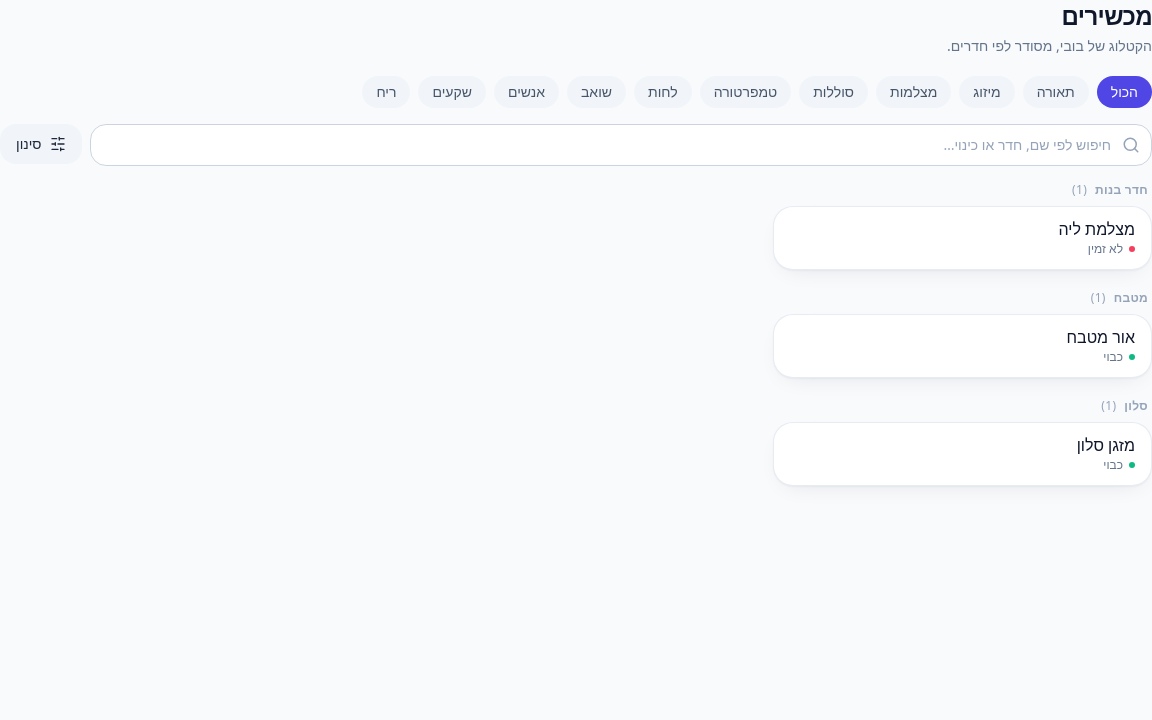
Test case: DevicesPage › shows the aliases Bobi understands
Click the text "אור מטבח" at (1101,337), box [1066,326,1135,348]
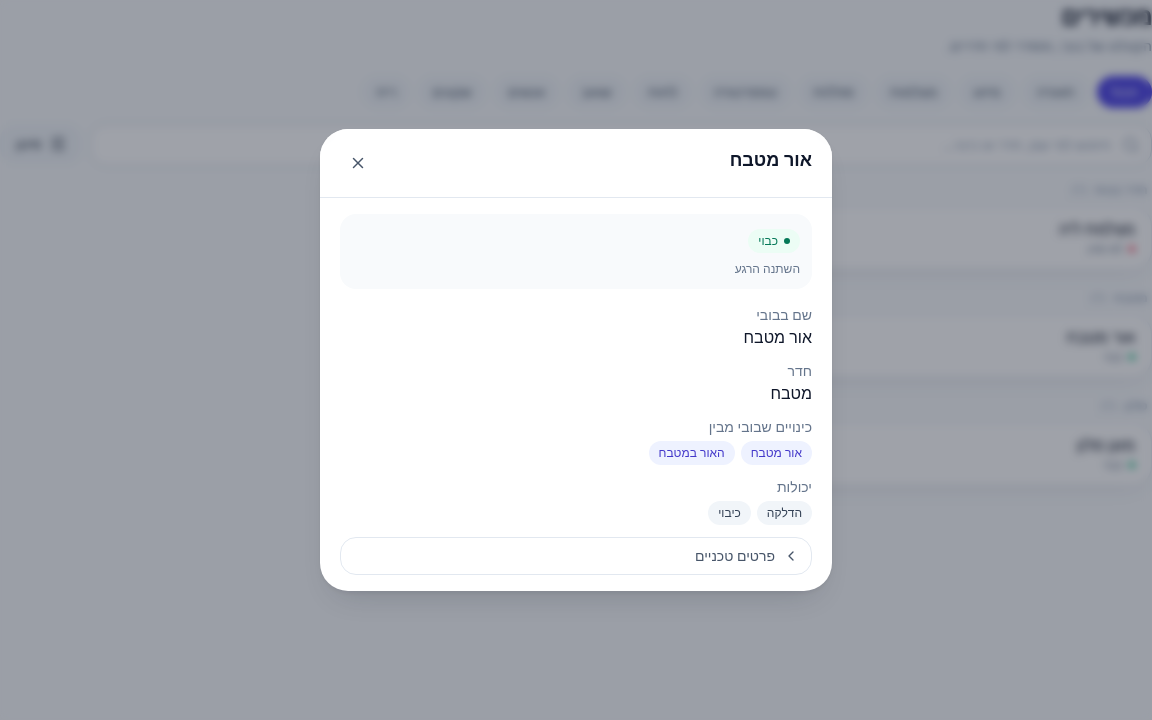
Check: the text "כינויים שבובי מבין" is shown, box [709,417,812,436]
Check: the text "האור במטבח" is shown, box [648,441,735,465]
